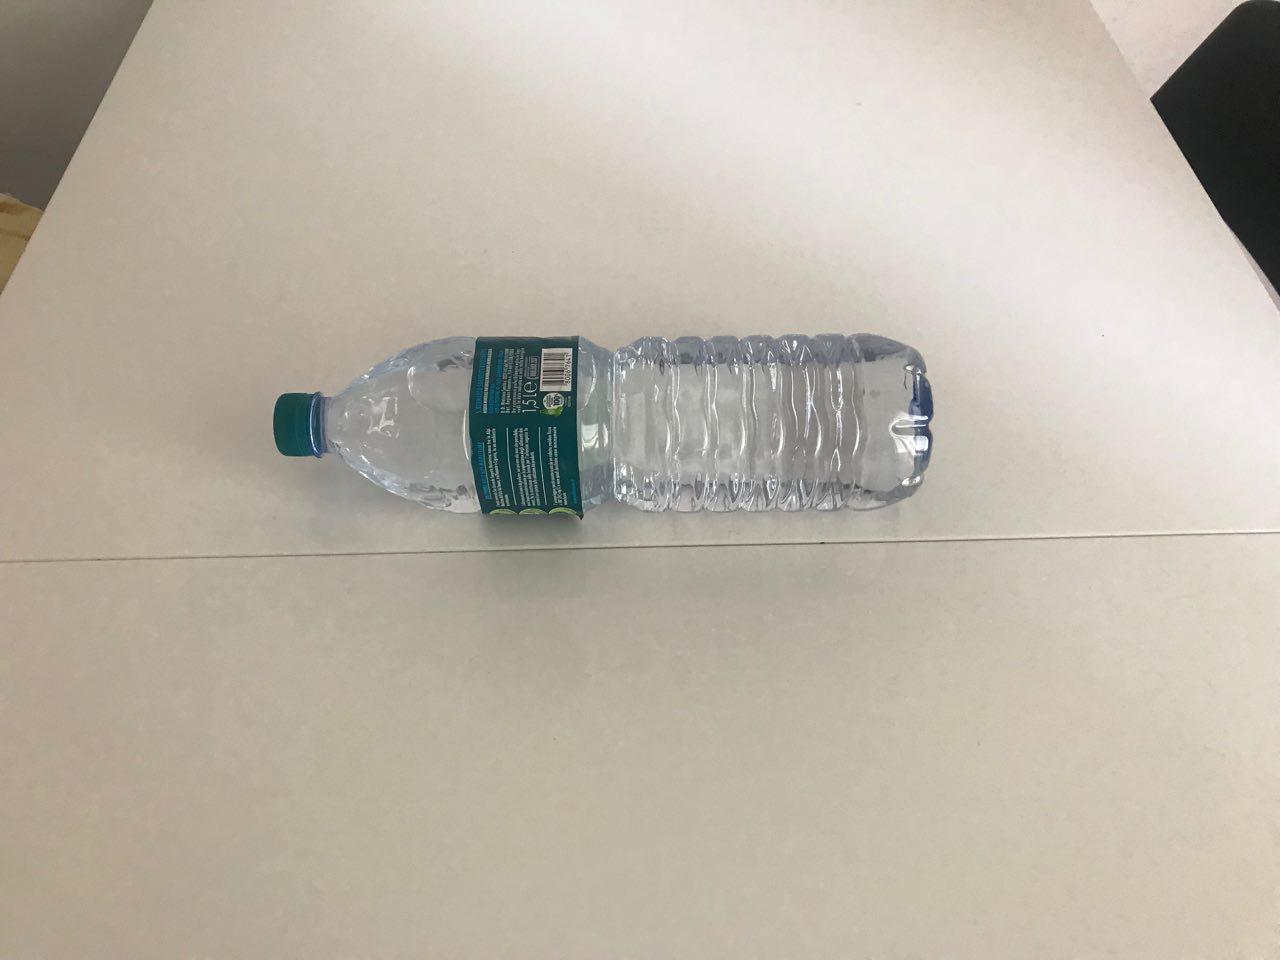san_bernardo: (271, 331, 935, 518)
